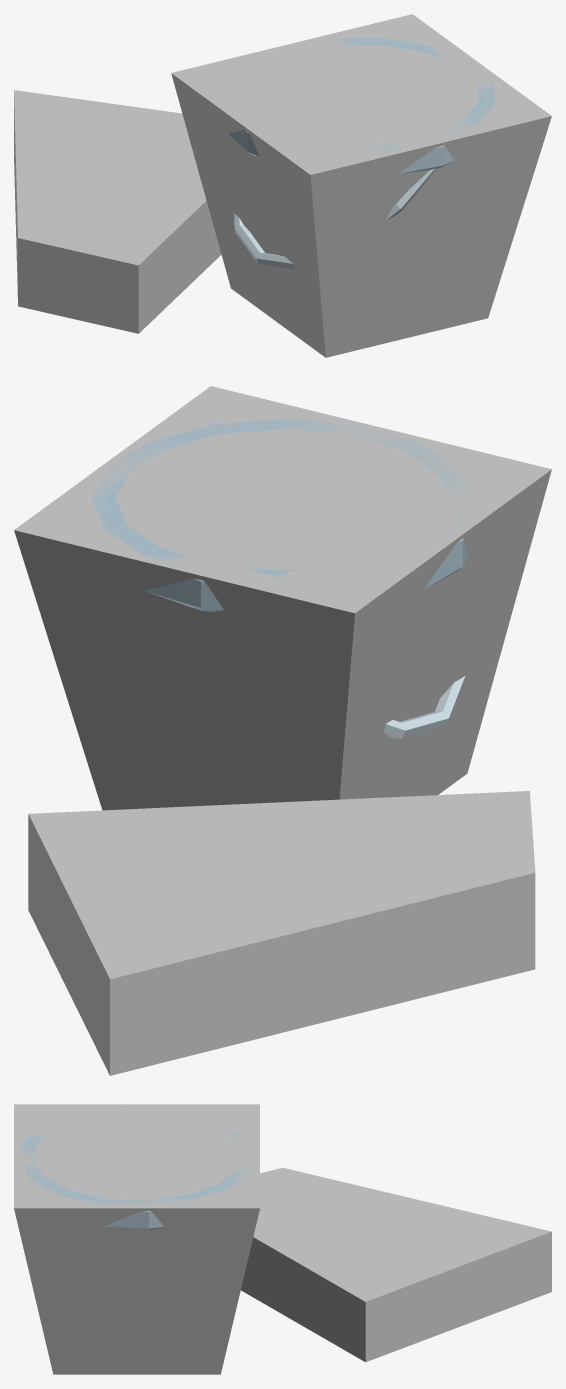
The model's file is SM_Paint_Bucket.fbx.
3 views of the same model, one above another, from view 1: azimuth 30°, elevation 25°; view 2: azimuth 150°, elevation 25°; view 3: azimuth 270°, elevation 25° (orthographic). The views are drawn at different scales.
Parts seen in each view (by area): view 1: SM_Paint_Bucket_ConvexHulls, SM_Paint_Bucket; view 2: SM_Paint_Bucket_ConvexHulls, SM_Paint_Bucket; view 3: SM_Paint_Bucket_ConvexHulls, SM_Paint_Bucket.
Boxes of the visible parts, <box> form: SM_Paint_Bucket_ConvexHulls: <box>14,14,551,357</box>; SM_Paint_Bucket: <box>228,38,495,269</box>; SM_Paint_Bucket_ConvexHulls: <box>14,386,551,1075</box>; SM_Paint_Bucket: <box>91,419,470,738</box>; SM_Paint_Bucket_ConvexHulls: <box>14,1104,551,1374</box>; SM_Paint_Bucket: <box>20,1106,252,1230</box>.
Size of the model in its own units: 85.39 by 118 by 44.55.
Materials: 2 (1 with a texture image).
